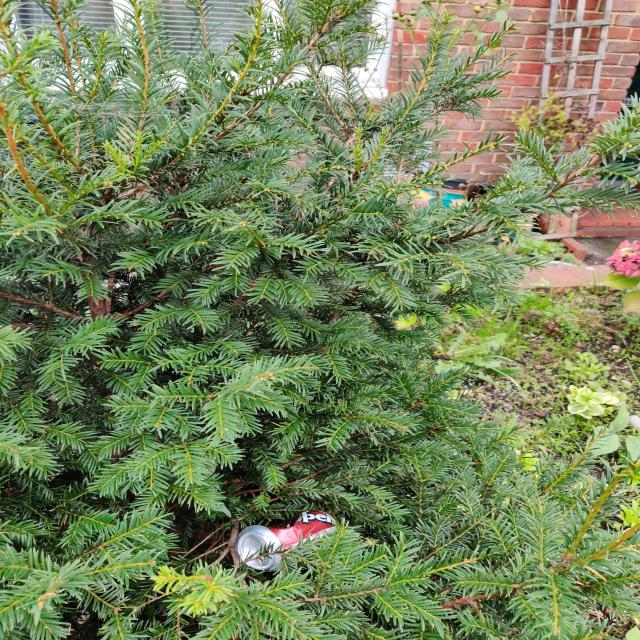litter: (233, 506, 349, 569)
